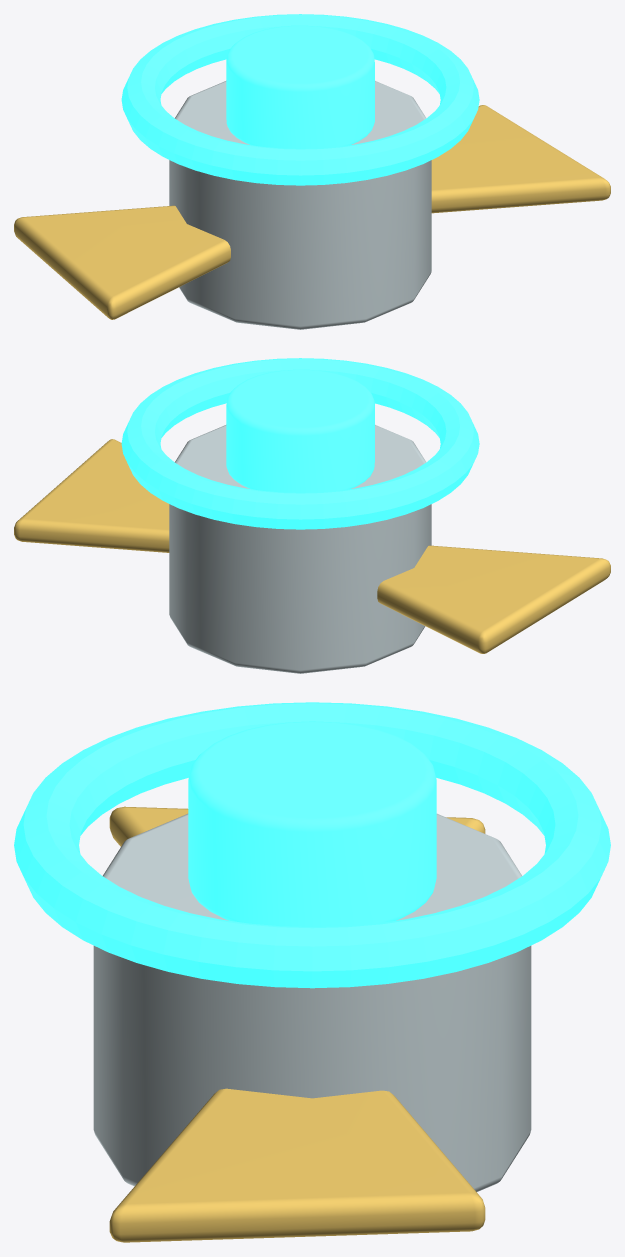
Rendered from SupplyBeacon.fbx.
The picture shows the model from 3 angles, top to bottom: view 1: azimuth 30°, elevation 25°; view 2: azimuth 150°, elevation 25°; view 3: azimuth 270°, elevation 25°; orthographic projection. The views are drawn at different scales.
Parts seen in each view (by area): view 1: Support transponder capsule, Transponder aerial, Transponder core, Deployable wing, Deployable wing.001; view 2: Support transponder capsule, Transponder aerial, Transponder core, Deployable wing, Deployable wing.001; view 3: Support transponder capsule, Transponder aerial, Transponder core, Deployable wing.001, Deployable wing.
Part boxes in pixels (x1,y1,x2,y2): Support transponder capsule: (169,81,431,329); Transponder aerial: (121,14,479,185); Transponder core: (226,25,374,148); Deployable wing: (14,205,230,319); Deployable wing.001: (431,105,610,213); Support transponder capsule: (169,425,431,673); Transponder aerial: (121,358,479,529); Transponder core: (226,369,374,492); Deployable wing: (377,545,610,653); Deployable wing.001: (14,439,169,552); Support transponder capsule: (93,813,531,1191); Transponder aerial: (14,702,610,988); Transponder core: (188,721,436,926); Deployable wing.001: (109,1088,485,1242); Deployable wing: (109,806,485,846).
Bounding box in the file's own units: 164 × 69 × 101.
